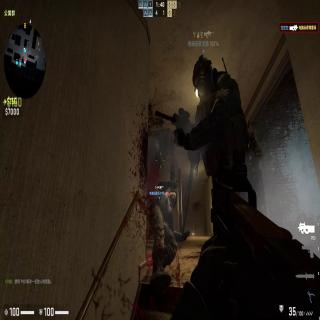CT-Head: (191, 56, 216, 100)
